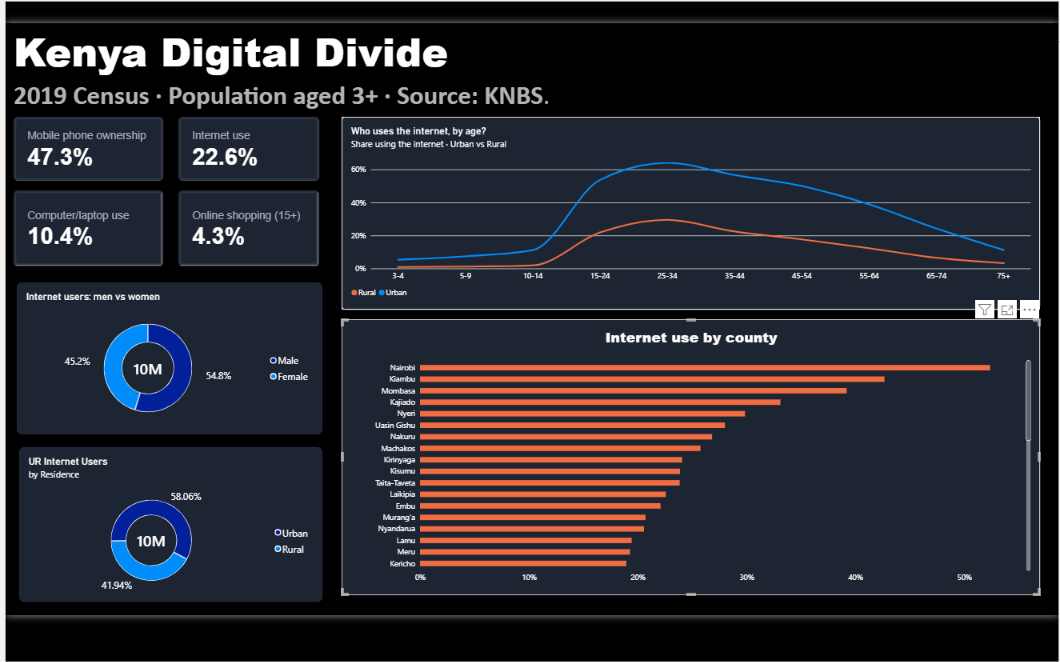

Layout of this report page (visuals, bound fields, positions):
{"tool":"powerbi","page":{"name":"Page 1","canvas":[1920,1080],"ordinal":0},"visuals":[{"type":"textbox","box":[14.5,0,1037.2,170.5],"z":0},{"type":"cardVisual","title":"Internet use","fields":{"Data":["Counties.Internet %"]},"box":[315.2,170.5,257.3,117.4],"z":1000},{"type":"cardVisual","title":"Internet use","fields":{"Data":["Counties.Mobile %"]},"box":[14.5,170.5,273.4,117.4],"z":2000},{"type":"cardVisual","title":"Internet use","fields":{"Data":["Counties.Online Shopping %"]},"box":[315.1,304.9,256.8,138.6],"z":3000},{"type":"cardVisual","title":"Internet use","fields":{"Data":["Counties.Computer %"]},"box":[14.6,304.9,272.8,138.6],"z":4000},{"type":"lineChart","title":"Who uses the internet, by age?","fields":{"Category":["UrbanRuralByAge.AgeGroup"],"Series":["UrbanRuralByAge.Residence"],"Y":["UrbanRuralByAge.UR Internet %"]},"box":[612.8,170.7,1273.7,351.6],"z":5000},{"type":"donutChart","fields":{"Category":["UrbanRuralByAge.Residence"],"Y":["UrbanRuralByAge.UR Internet Users"]},"box":[24.8,773.3,552.9,281.6],"z":6000},{"type":"donutChart","title":"Internet users: men vs women","fields":{"Category":["Gender.Sex"],"Y":["Sum(Gender.People)"]},"box":[20.4,472.7,557.3,277.2],"z":7000},{"type":"barChart","title":"Internet use by county","fields":{"Category":["Counties.County"],"Y":["Counties.Internet %"]},"box":[612.8,539.8,1273.7,503.3],"z":8000}]}

Visuals, with their boxes on the page's 1920x1080 design canvas (x1, y1, x2, y2). These are canvas units, not pixel positions in the 1060x662 screenshot, which may show the page scaled, cropped or inside an application window:
textbox: 14 0 1052 170
"Internet use" cardVisual: 315 170 572 288
"Internet use" cardVisual: 14 170 288 288
"Internet use" cardVisual: 315 305 572 444
"Internet use" cardVisual: 15 305 287 444
"Who uses the internet, by age?" lineChart: 613 171 1886 522
donutChart - UrbanRuralByAge.Residence x UrbanRuralByAge.UR Internet Users: 25 773 578 1055
"Internet users: men vs women" donutChart: 20 473 578 750
"Internet use by county" barChart: 613 540 1886 1043
